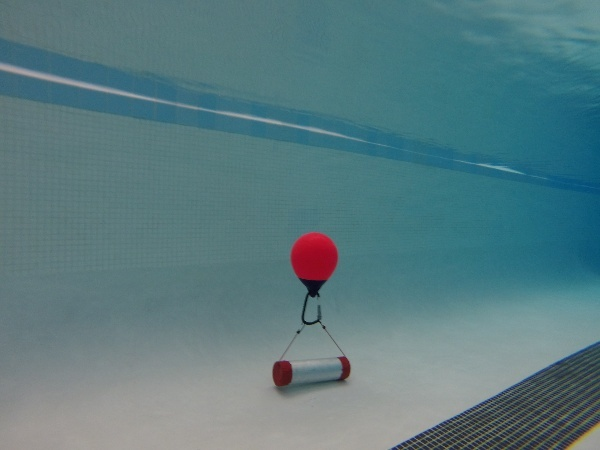buoy_red: (287, 231, 343, 300)
